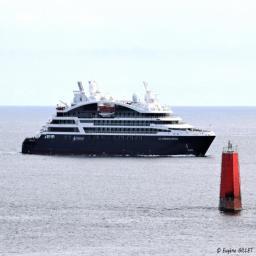cruises: (20, 79, 219, 162)
